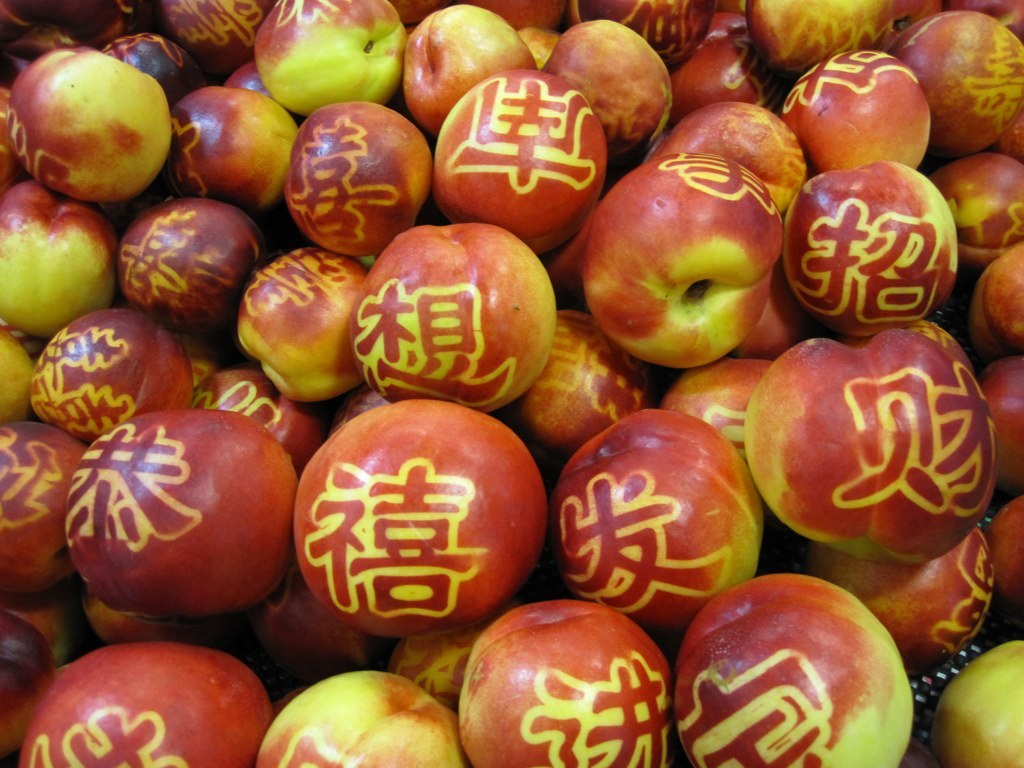Apple: (0, 0, 1022, 767), (458, 600, 670, 767), (0, 25, 177, 210)
